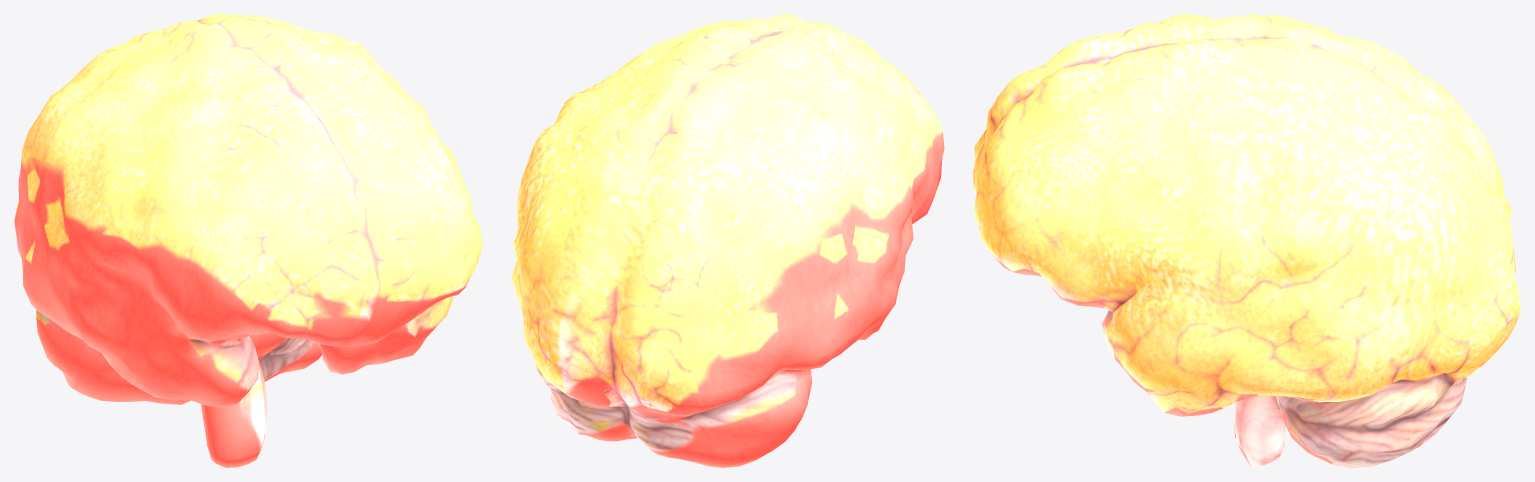
The model's file is orange brain.glb.
3 views of the same model, side by side, from view 1: azimuth 30°, elevation 25°; view 2: azimuth 150°, elevation 25°; view 3: azimuth 270°, elevation 25° (orthographic). The views are drawn at different scales.
Parts seen in each view (by area): view 1: brain.1; view 2: brain.1; view 3: brain.1.
Boxes of the visible parts, x1,y1,x2,y2 form: brain.1: (14,14,482,467); brain.1: (511,14,944,467); brain.1: (973,14,1520,467).
Size of the model in its own units: 0.7609 by 0.8546 by 0.991.
